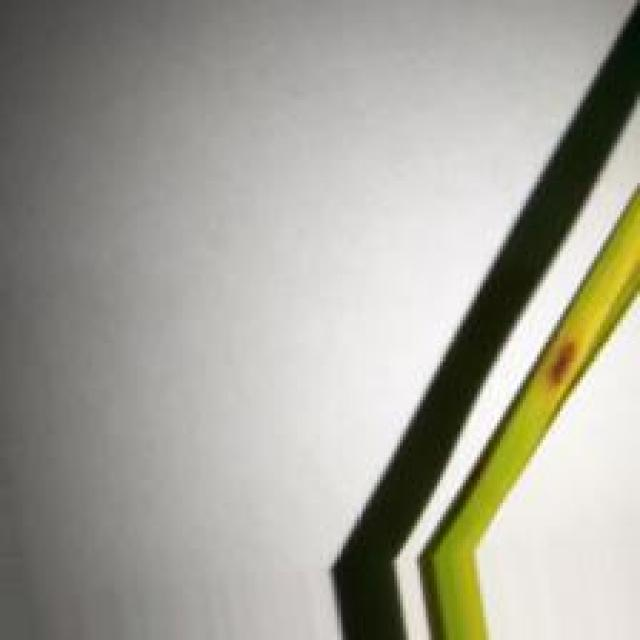Brown_Spot: (538, 331, 589, 399)
